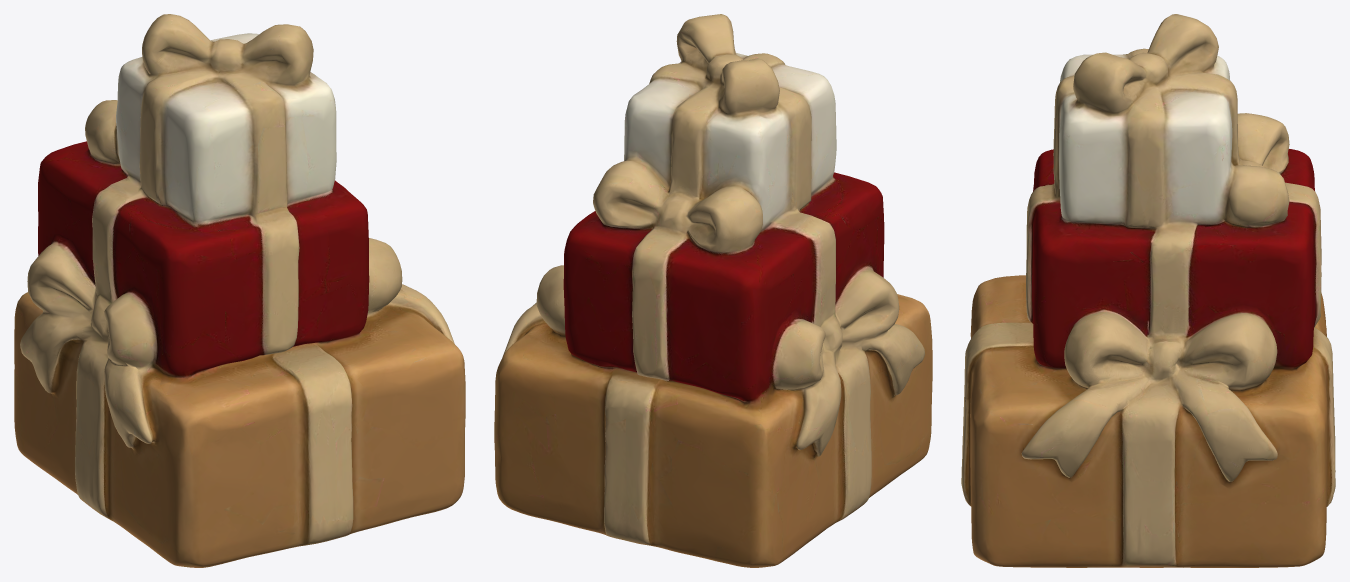
Rendered from gifts.glb.
3 views of the same model, side by side, from view 1: azimuth 30°, elevation 25°; view 2: azimuth 150°, elevation 25°; view 3: azimuth 270°, elevation 25° (orthographic). The views are drawn at different scales.
Size of the model in its own units: 1.49 by 2 by 1.48.
Materials: 1 (1 with a texture image).
